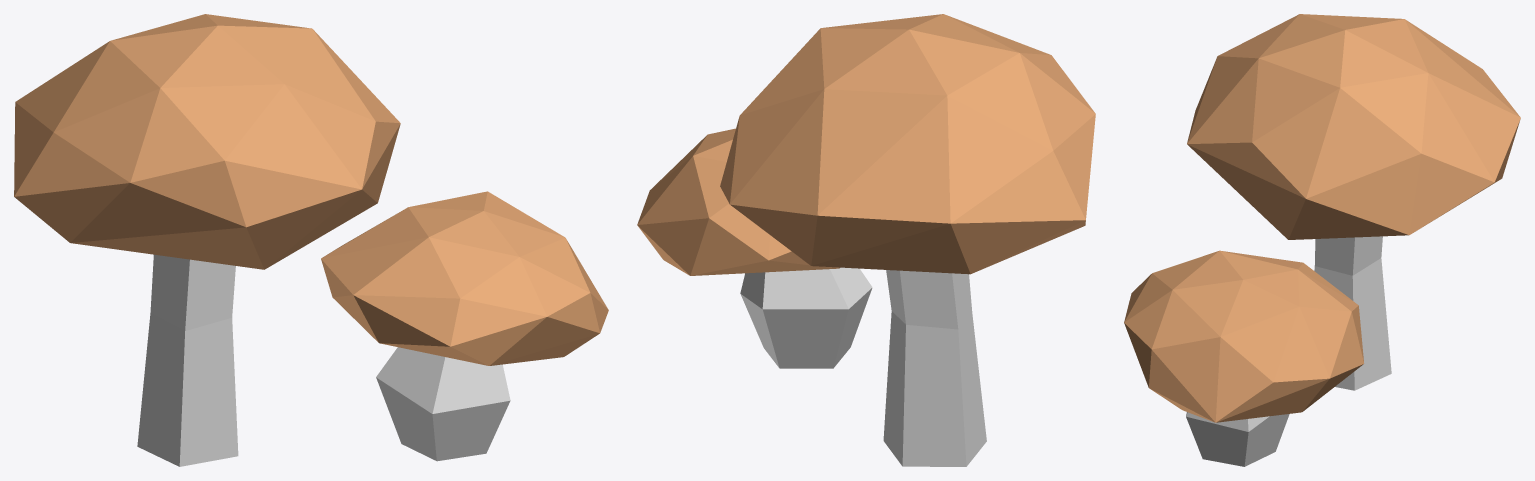
Rendered from TwoShrooms.fbx.
3 views of the same model, side by side, from view 1: azimuth 30°, elevation 25°; view 2: azimuth 150°, elevation 25°; view 3: azimuth 270°, elevation 25° (orthographic). The views are drawn at different scales.
Visible parts, largest first — view 1: 2shroom, 2shroom.001; view 2: 2shroom, 2shroom.001; view 3: 2shroom, 2shroom.001.
Part boxes in pixels (x1,y1,x2,y2): 2shroom: [14, 14, 608, 365]; 2shroom.001: [137, 254, 510, 466]; 2shroom: [637, 14, 1095, 275]; 2shroom.001: [740, 267, 986, 466]; 2shroom: [1124, 14, 1520, 422]; 2shroom.001: [1186, 236, 1391, 466].
Size of the model in its own units: 0.3962 by 0.309 by 0.3153.
